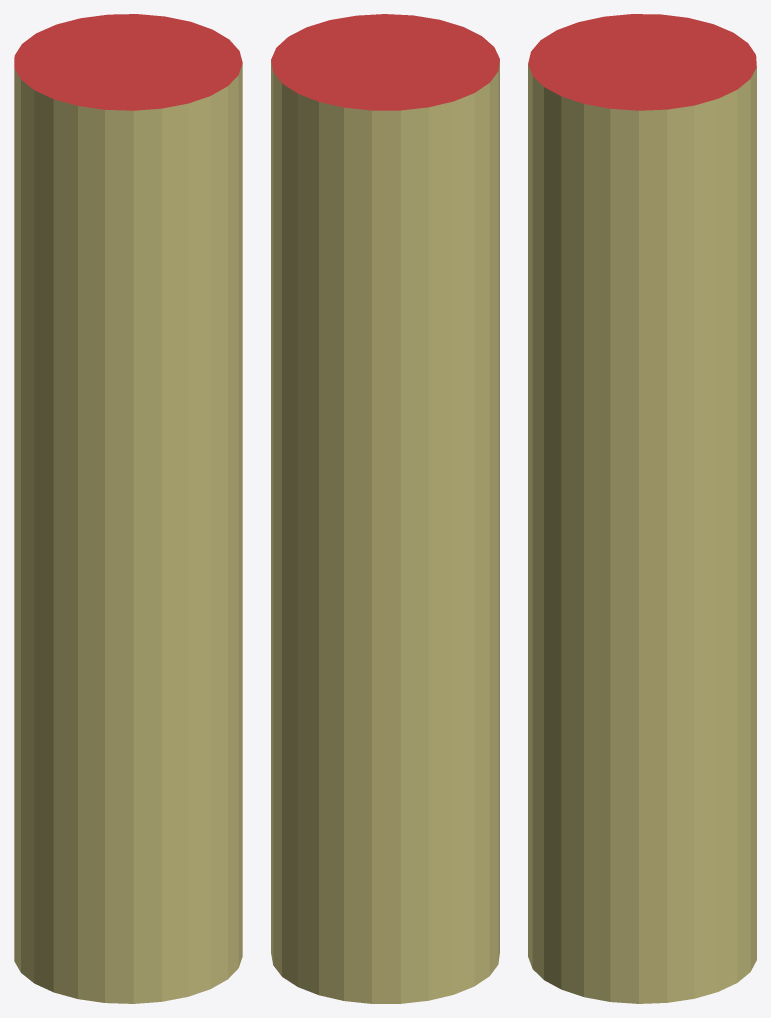
The picture shows the model from 3 angles, left to right: view 1: azimuth 30°, elevation 25°; view 2: azimuth 150°, elevation 25°; view 3: azimuth 270°, elevation 25°; orthographic projection.
Bounding box in the file's own units: 2.39 × 2.39 × 10.28.
